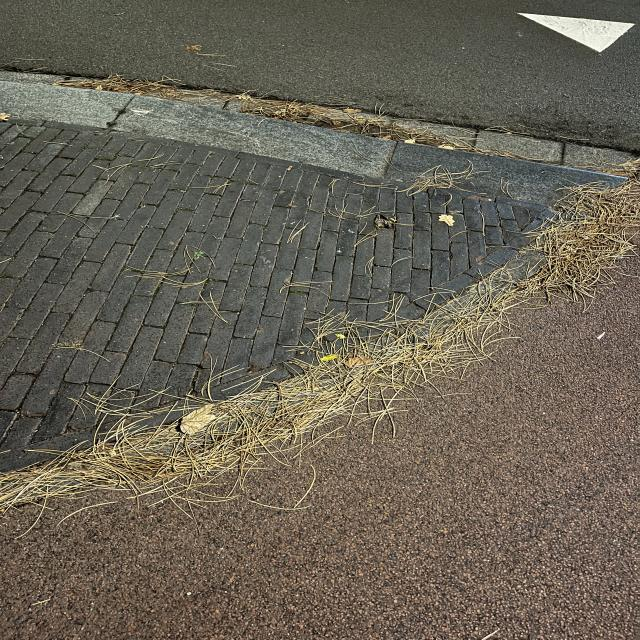leaves: (179, 404, 216, 437)
pavement: (0, 0, 639, 470)
plants: (289, 290, 307, 294)
weed: (211, 175, 255, 185), (194, 251, 204, 260)
weedling: (197, 172, 199, 175)
